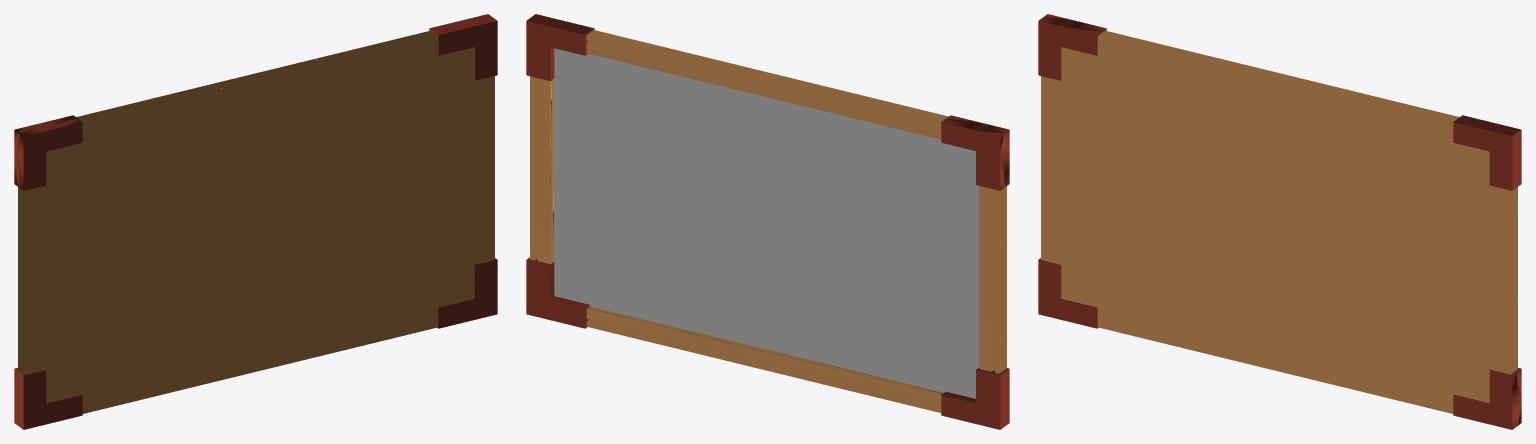
Rendered from Picture Frame 5.fbx.
3 views of the same model, side by side, from view 1: azimuth 30°, elevation 25°; view 2: azimuth 150°, elevation 25°; view 3: azimuth 330°, elevation 25° (orthographic).
Visible parts, largest first — view 1: Node 0; view 2: Node 0; view 3: Node 0.
Part boxes in pixels (x1,y1,x2,y2): Node 0: [14, 14, 497, 429]; Node 0: [526, 14, 1009, 429]; Node 0: [1038, 14, 1521, 429].
Bounding box in the file's own units: 0.7692 × 0.4555 × 0.0261.
